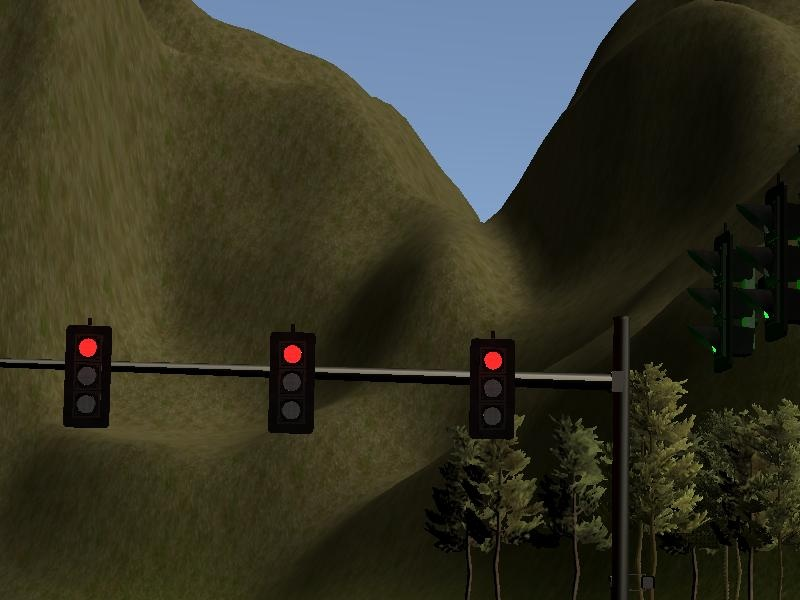RED: (469, 337, 516, 438), (267, 333, 314, 434), (62, 325, 109, 426)
